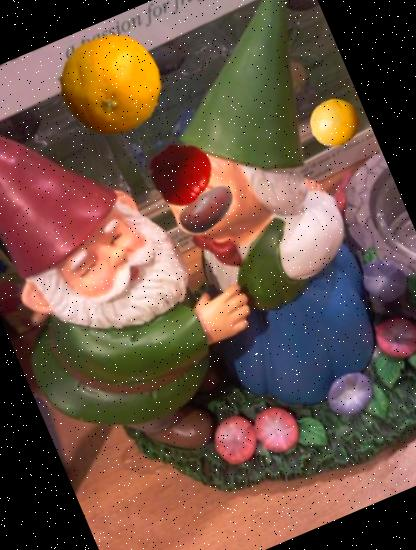Grapefruit: (41, 15, 179, 152), (302, 89, 368, 156)
Potato: (166, 169, 248, 250)
Tomato: (140, 131, 224, 215)
